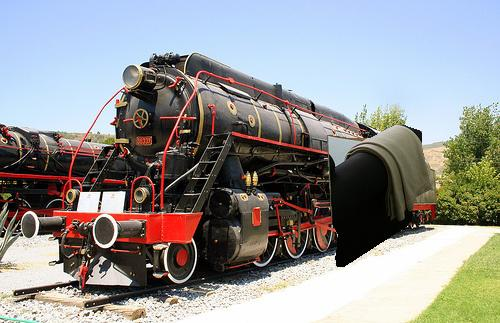tampered: (328, 124, 431, 267)
